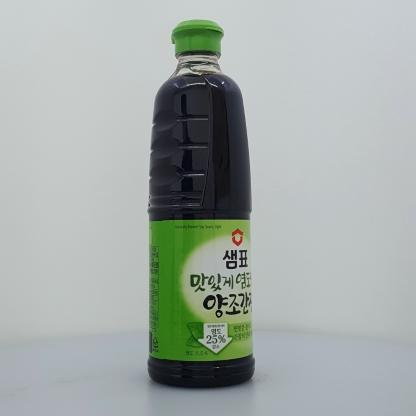-------------: (147, 19, 255, 388)
